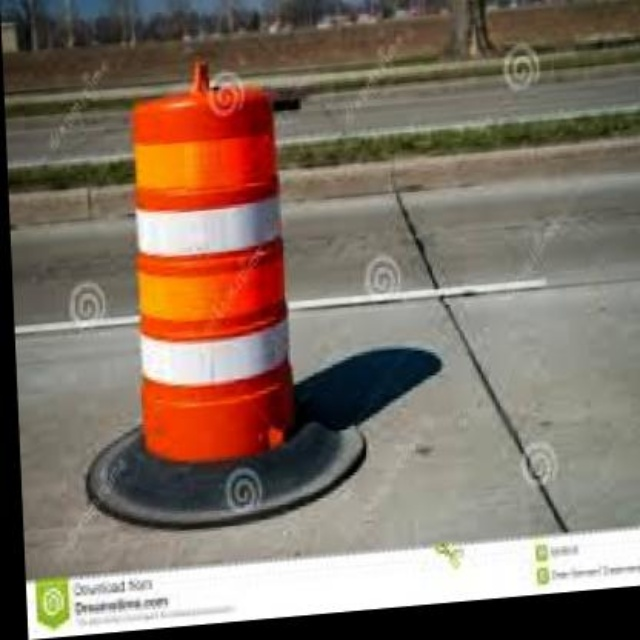obstacle: (117, 80, 298, 477)
